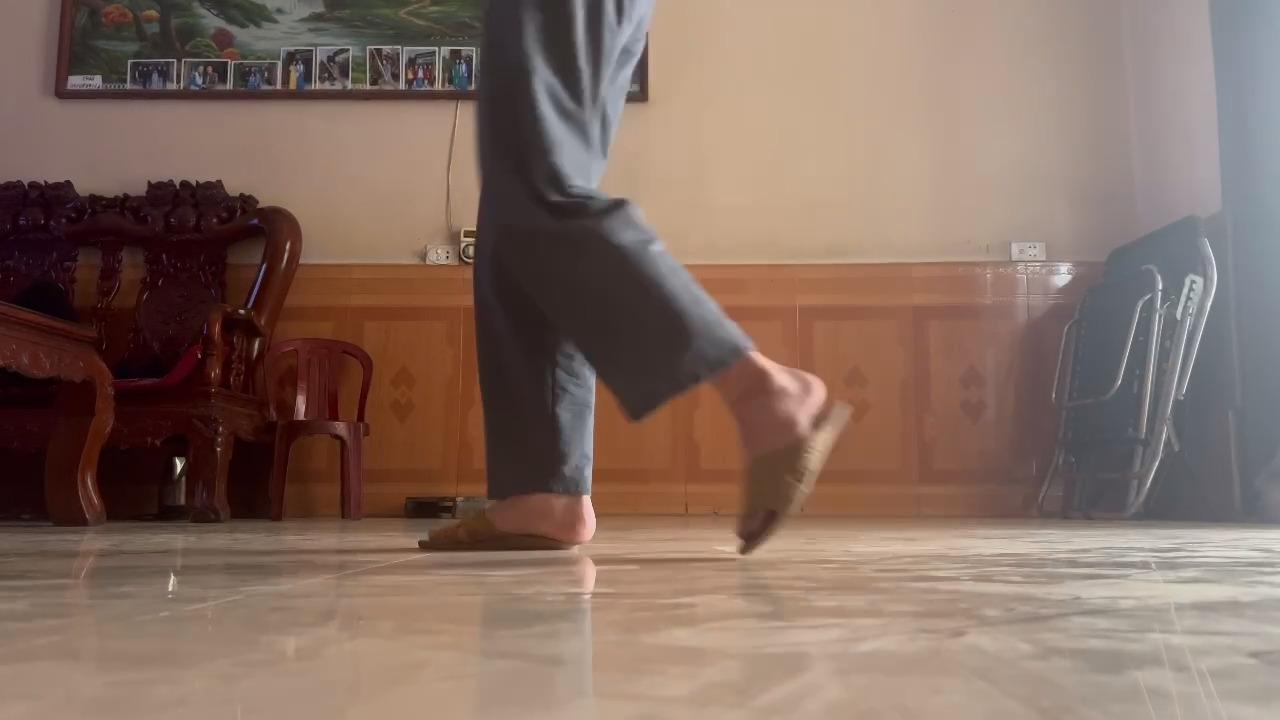no-boot: (721, 363, 863, 562), (406, 497, 602, 558)
